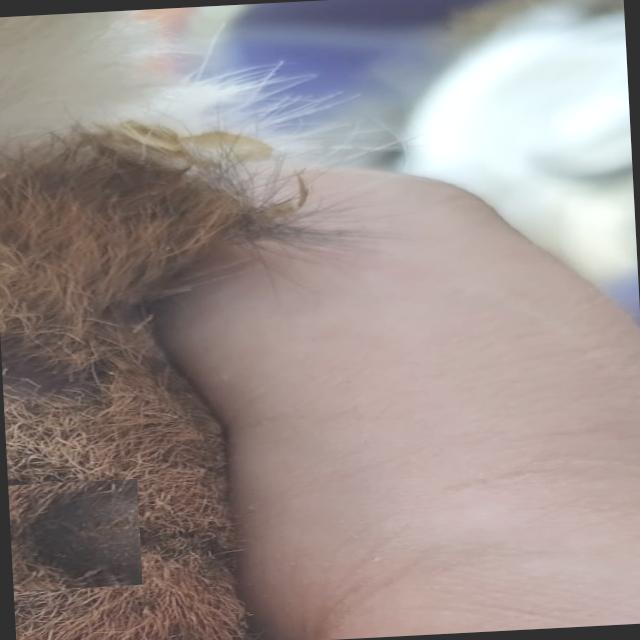fem: (8, 478, 140, 589)
